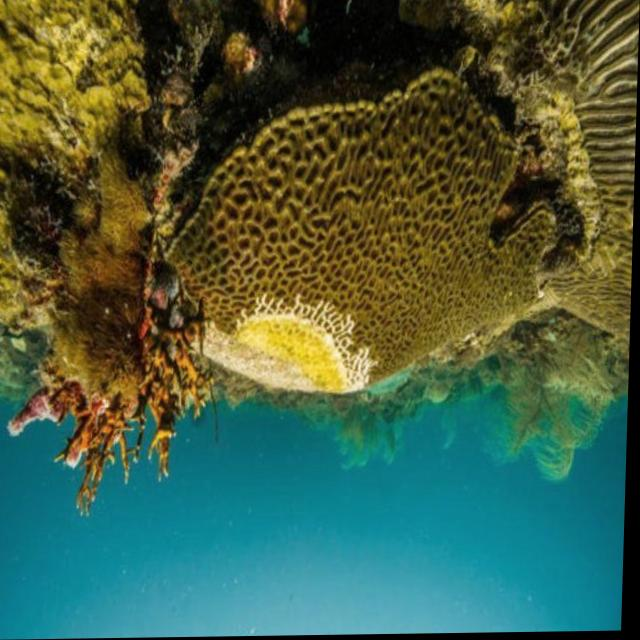Healthy Coral: (21, 9, 361, 299), (378, 9, 628, 378), (3, 333, 210, 532), (293, 394, 605, 497)
